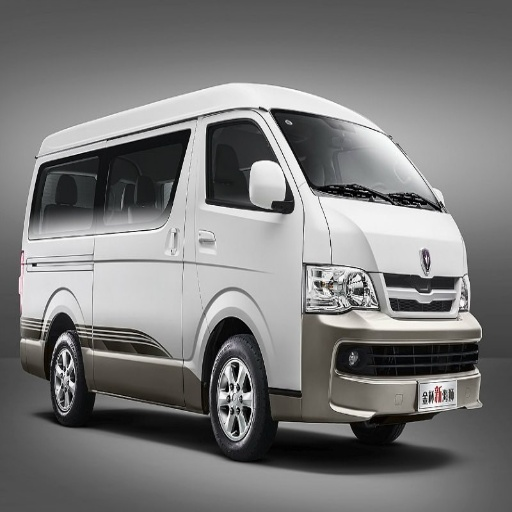front_bumper: (301, 271, 482, 420)
front_glass: (275, 113, 437, 210)
front_right_door: (195, 113, 302, 267), (117, 311, 181, 399)
front_right_light: (307, 265, 378, 313)
trunk: (30, 237, 299, 386)
